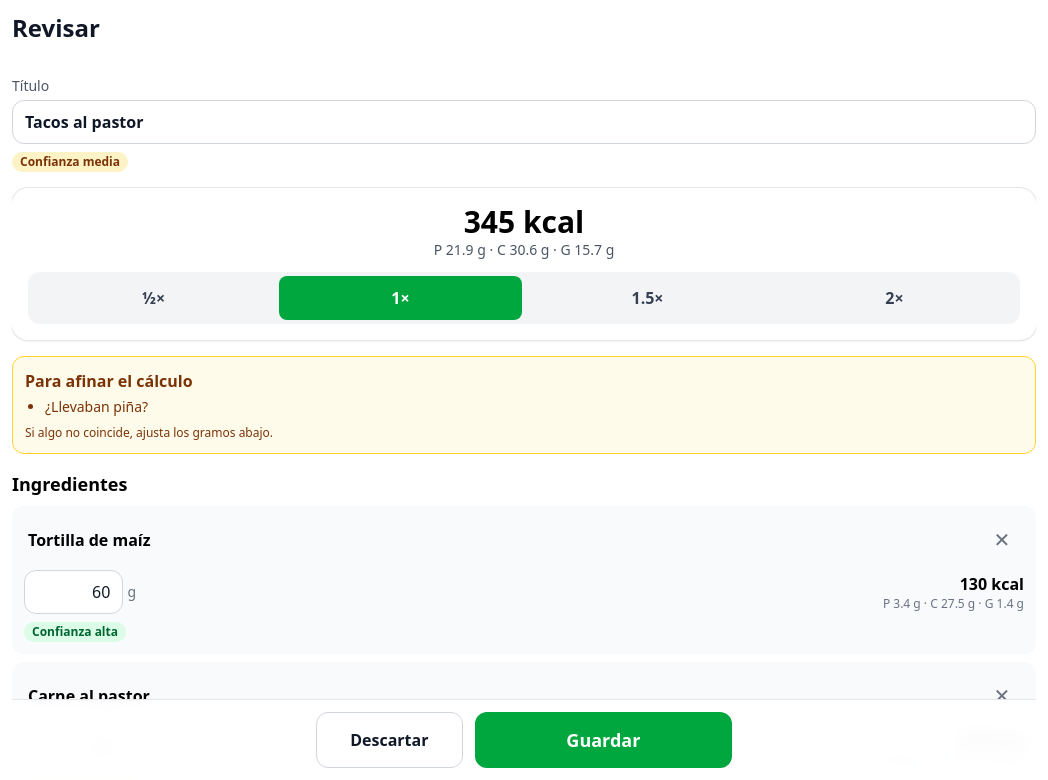
it: Revisar (adversarial) › quitar todos los ingredientes deshabilita Guardar y no llama a la red
This screenshot has width=1048, height=780.
Later steps or results of the test are not shown.
Step 1. Click the button named "Quitar Tortilla de maíz" → (1002, 540), box [980,518,1024,562]
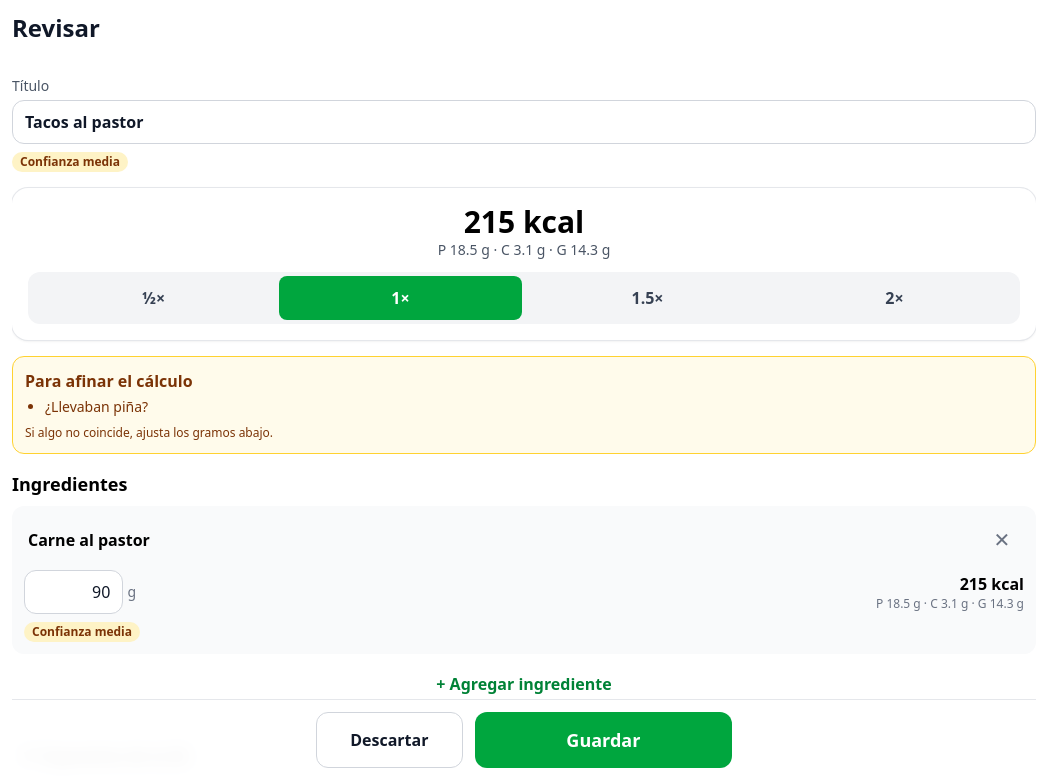
Step 2. Click the button named "Quitar Carne al pastor" → (1002, 540), box [980,518,1024,562]
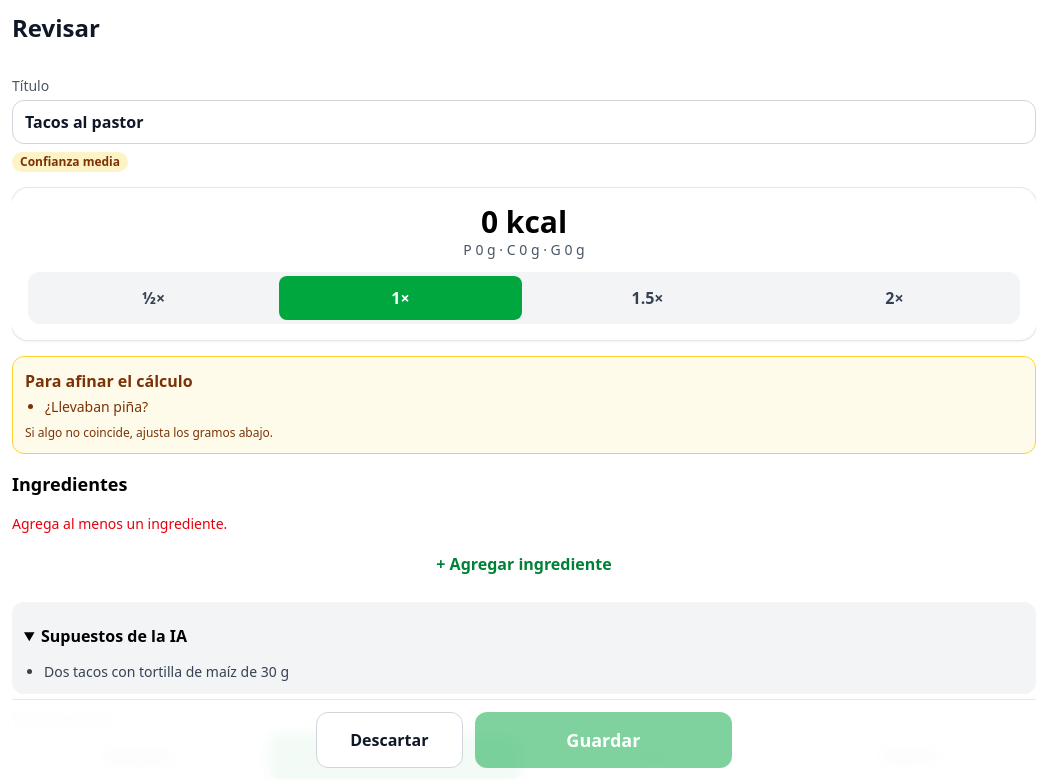
Result: the button "Guardar" is disabled at [475,712,732,768]
